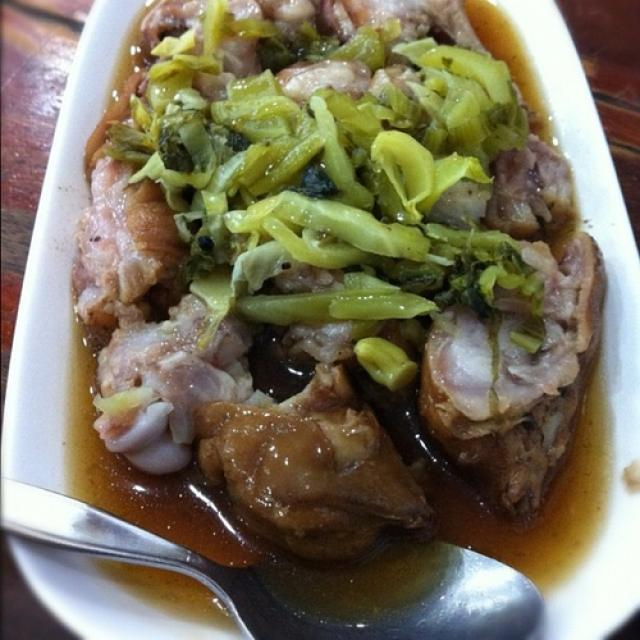猪肉菜式: (29, 15, 621, 599)
